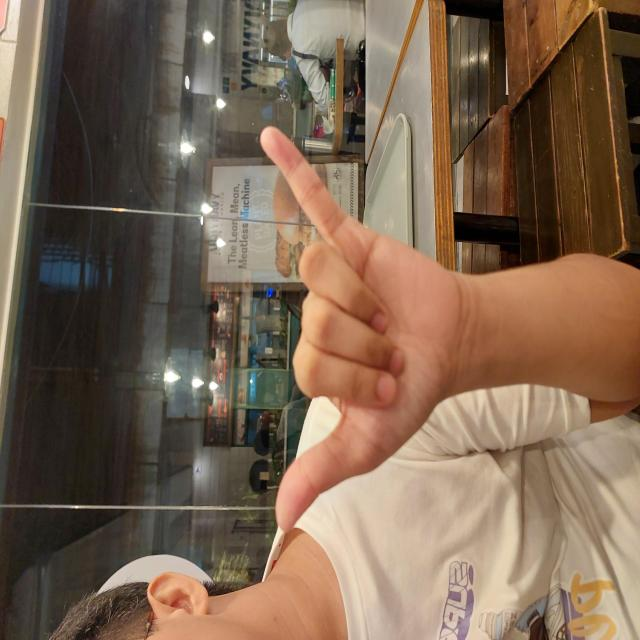Y: (105, 258, 516, 462)
